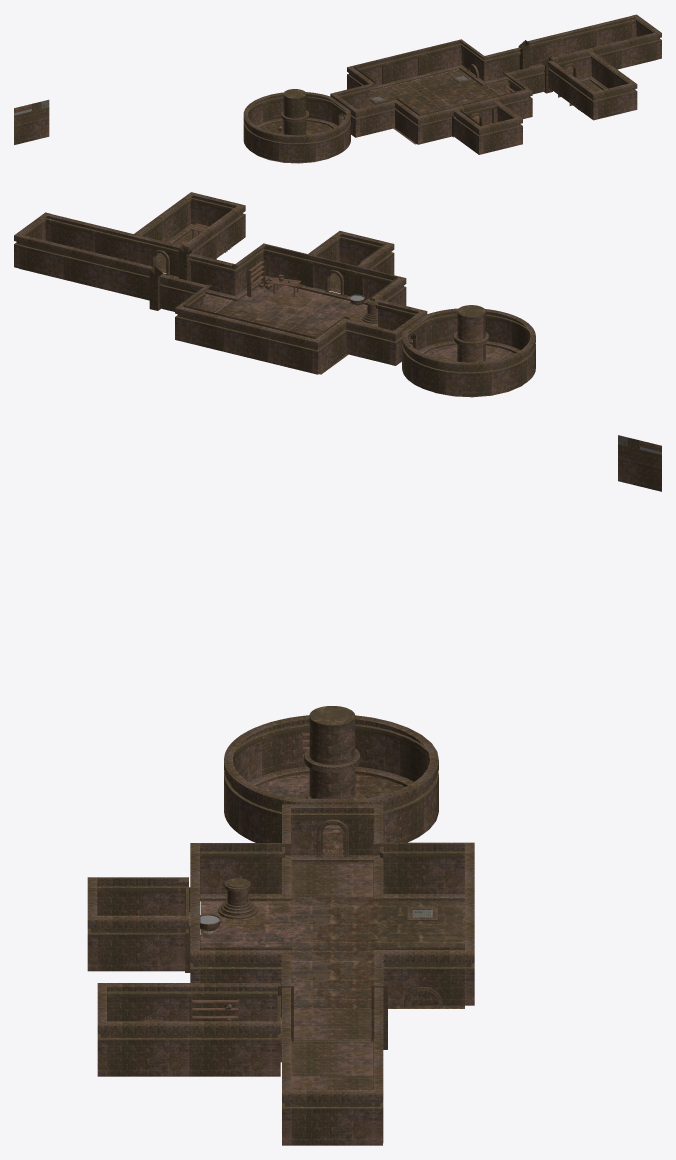
The model's file is dungeon_test_trim_sheet.glb.
3 views of the same model, one above another, from view 1: azimuth 30°, elevation 25°; view 2: azimuth 150°, elevation 25°; view 3: azimuth 270°, elevation 25° (orthographic). The views are drawn at different scales.
Parts seen in each view (by area): view 1: Plane; view 2: Plane; view 3: Plane.
Part boxes in pixels (left/top/right/bottom): Plane: left=14, top=14, right=661, bottom=163; Plane: left=14, top=192, right=661, bottom=491; Plane: left=87, top=706, right=474, bottom=1145.
Size of the model in its own units: 64.59 by 5.42 by 24.5.
1 material, 1 textured.
